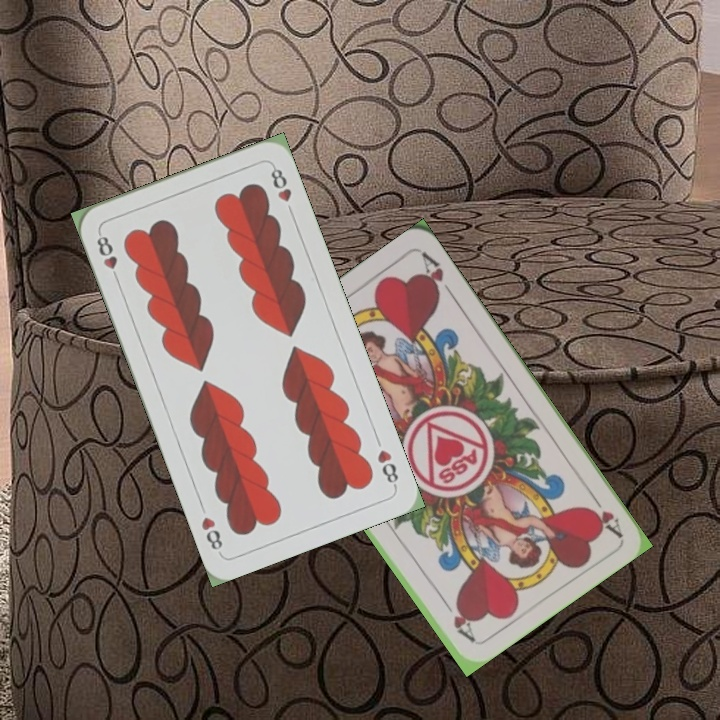H8: (92, 228, 122, 285), (373, 445, 401, 490)
HA: (583, 486, 625, 539)
